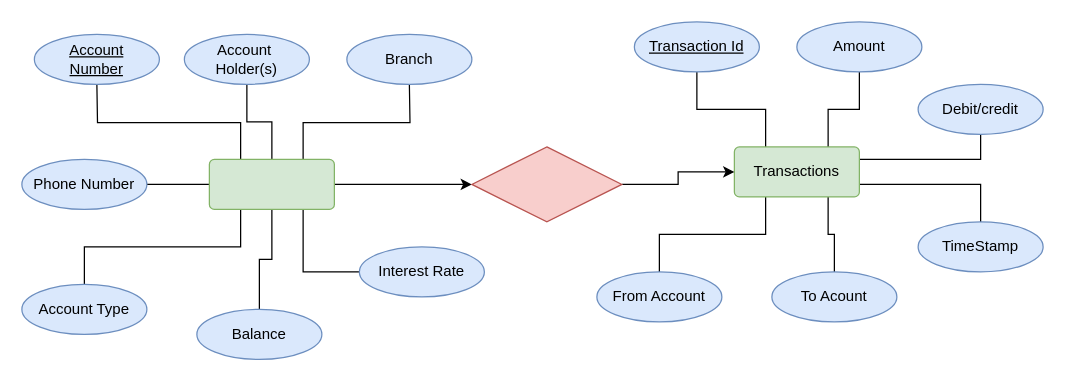
Image size: 1065x381. Some labels were removed from this diagram. Each missing label, with the box of its shape:
Accounts Table: (208, 158, 334, 209)
Make Transaction: (471, 146, 622, 222)
